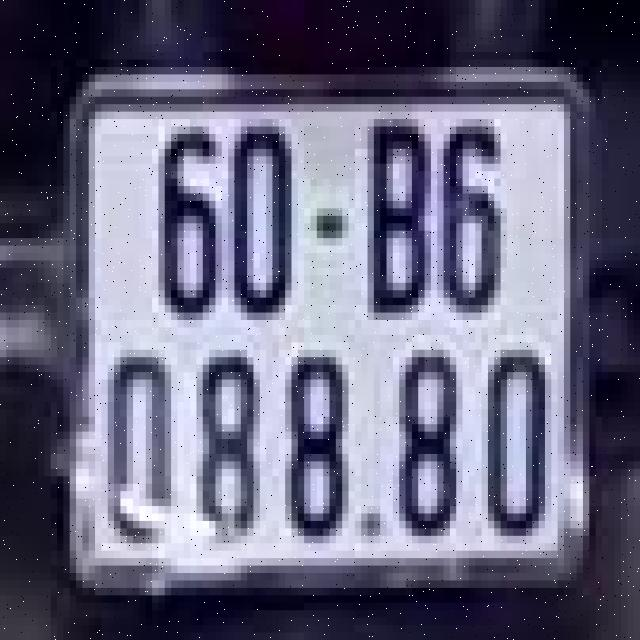0: (472, 342, 567, 551), (101, 331, 178, 555), (228, 104, 298, 328)
6: (152, 112, 222, 335), (437, 112, 507, 320)
8: (282, 350, 364, 558), (190, 350, 273, 550), (396, 331, 466, 547)
B: (358, 93, 447, 339)
